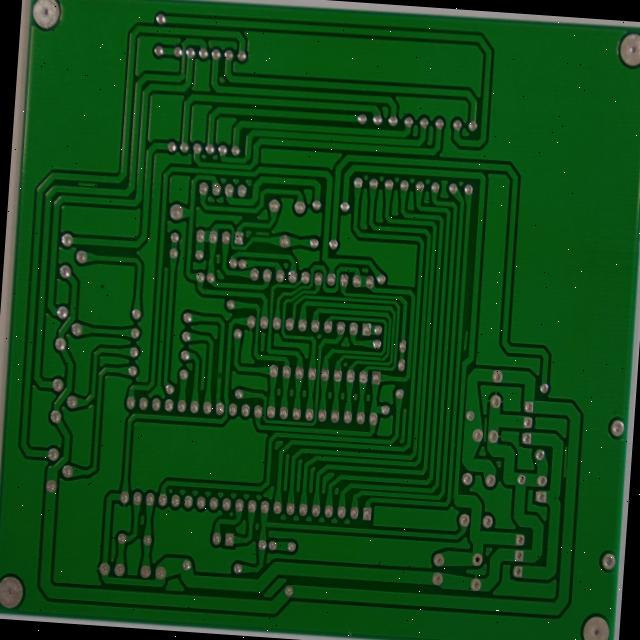spurious_copper: (510, 464, 530, 505), (77, 200, 104, 220), (601, 497, 613, 540), (269, 256, 292, 272), (493, 367, 503, 397)
